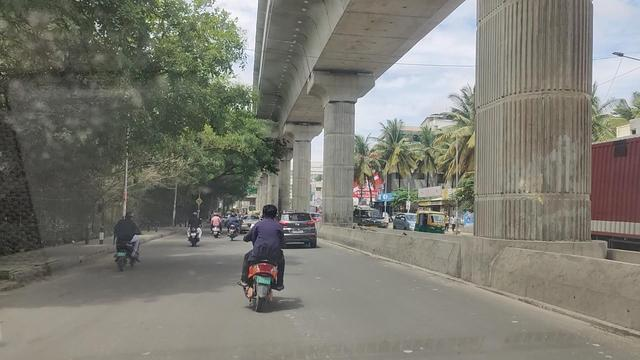LMV: (244, 202, 286, 314), (116, 208, 141, 270), (188, 209, 203, 249), (226, 210, 241, 244)
